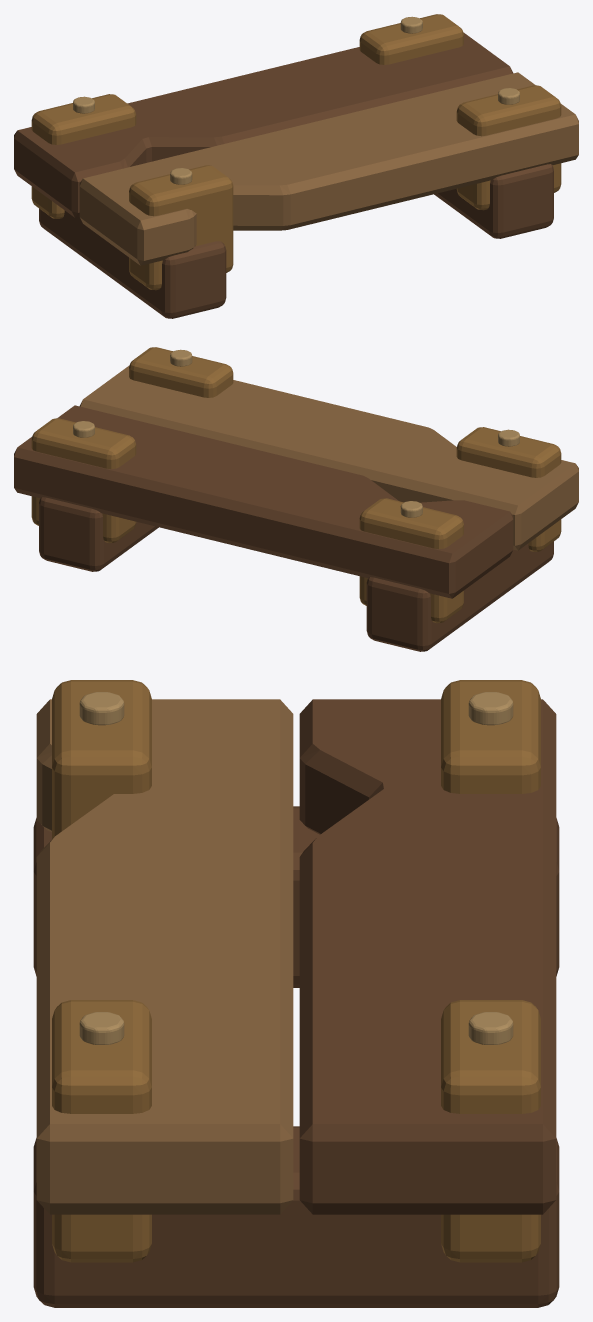
Rendered from VAULT_TIMBER_BRIDGE_050.hi.glb.
3 renders of one model, top to bottom at view 1: azimuth 30°, elevation 25°; view 2: azimuth 150°, elevation 25°; view 3: azimuth 270°, elevation 25°, orthographic. The views are drawn at different scales.
Visible parts, largest first — view 1: Body_Mesh; view 2: Body_Mesh; view 3: Body_Mesh.
Part boxes in pixels (x1,y1,x2,y2): Body_Mesh: (14, 14, 578, 318); Body_Mesh: (14, 347, 578, 651); Body_Mesh: (33, 680, 559, 1307).
Size of the model in its own units: 0.97 by 0.277 by 0.5.
